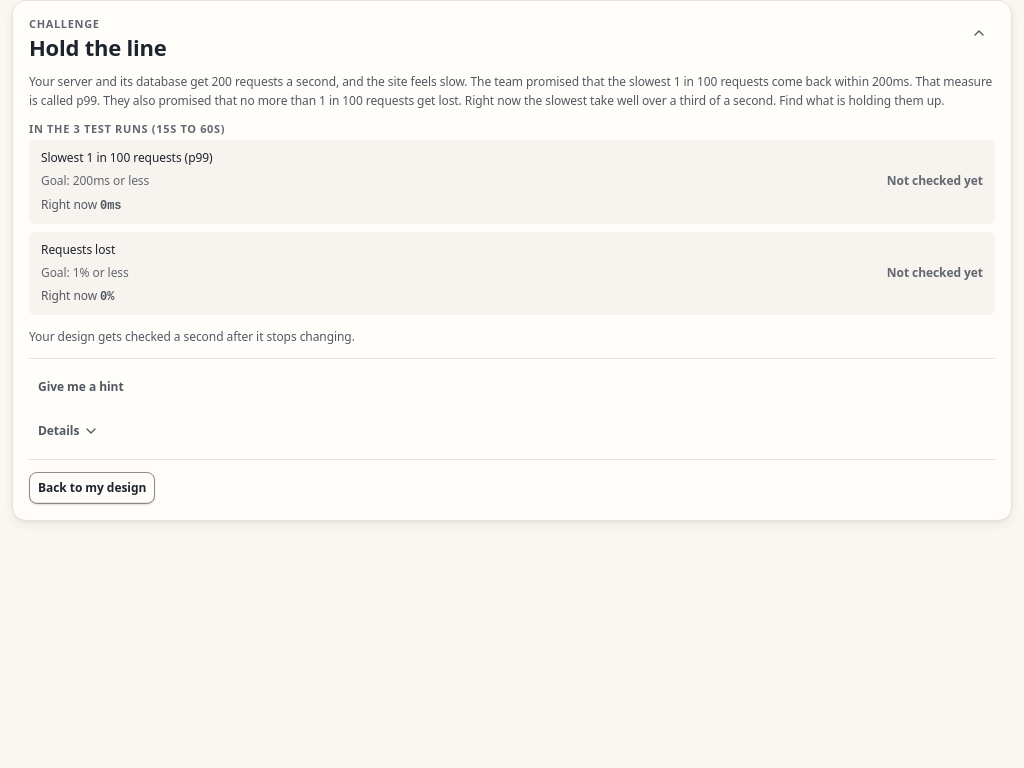
Scenario: panel chrome › gives hints only when asked, one at a time
Press the mouse on the button "Give me a hint" at (81,388), box [29,372,133,404]
Click the button "Give me a hint" at (81,388), box [29,372,133,404]
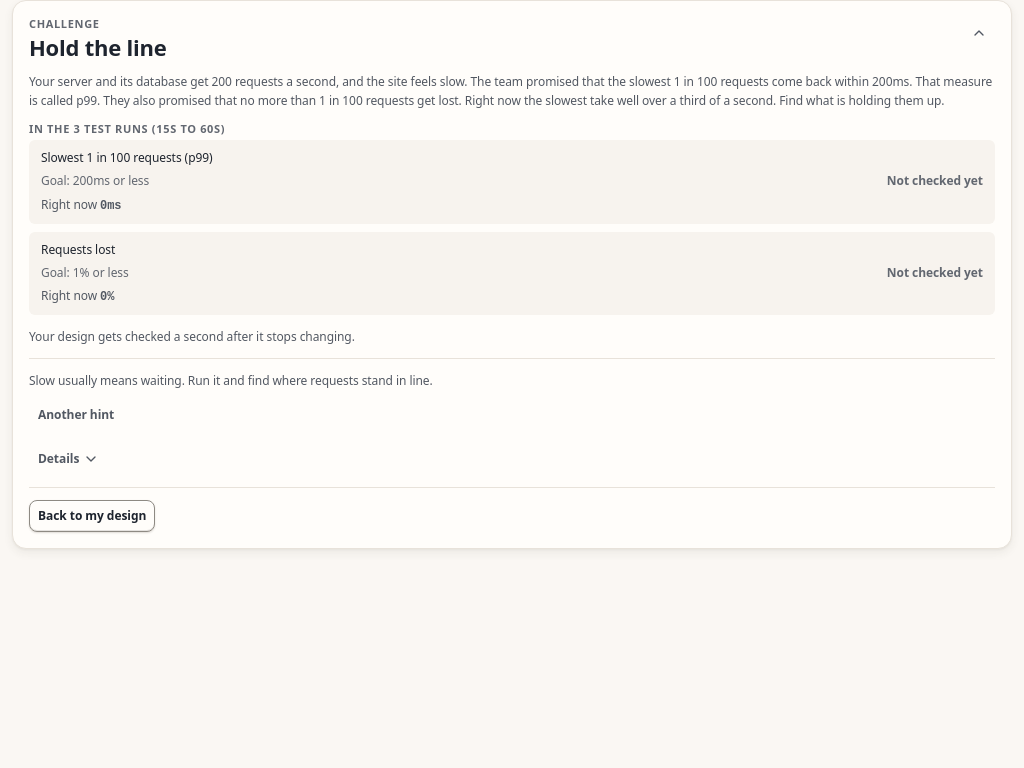
Expected: the button "Another hint" is shown, [29,399,123,431]
Now the text "Slow usually means waiting. Run it and find where requests stand in line." is shown, box [29,372,433,390]
